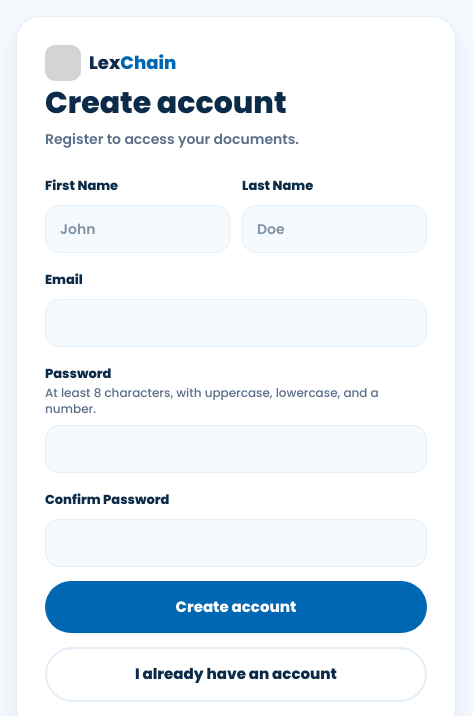
Scenario: RegisterPage › associates each validation message with its invalid field
This screenshot has width=473, height=716.
Click the button "Create account": (236, 607) [45, 581, 427, 633]
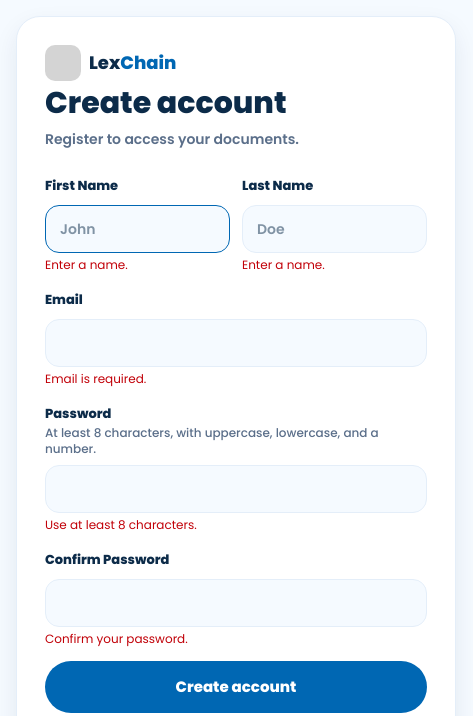
Now the text "Enter a name." below "First Name" is shown, box [45, 256, 128, 273]
Now the text "Enter a name." below "Last Name" is shown, box [242, 256, 325, 273]
Now the text "Email is required." is shown, box [45, 370, 146, 387]
